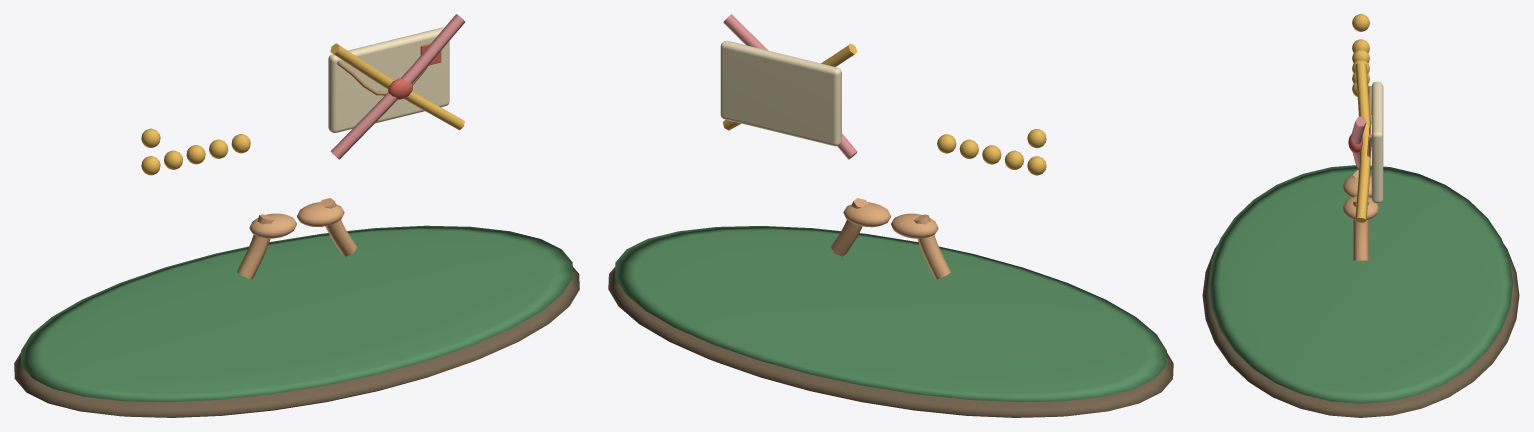
File: complete-second-six-crossed-handover.glb
The picture shows the model from 3 angles, left to right: view 1: azimuth 30°, elevation 25°; view 2: azimuth 150°, elevation 25°; view 3: azimuth 270°, elevation 25°; orthographic projection. The views are drawn at different scales.
Parts seen in each view (by area): view 1: complete-second-six-crossed-handover_surface_01, complete-second-six-crossed-handover_surface_00, complete-second-six-crossed-handover_surface_05, complete-second-six-crossed-handover_surface_02, complete-second-six-crossed-handover_surface_07, complete-second-six-crossed-handover_surface_03, complete-second-six-crossed-handover_surface_04; view 2: complete-second-six-crossed-handover_surface_01, complete-second-six-crossed-handover_surface_00, complete-second-six-crossed-handover_surface_05, complete-second-six-crossed-handover_surface_07, complete-second-six-crossed-handover_surface_02, complete-second-six-crossed-handover_surface_03; view 3: complete-second-six-crossed-handover_surface_01, complete-second-six-crossed-handover_surface_00, complete-second-six-crossed-handover_surface_02, complete-second-six-crossed-handover_surface_05, complete-second-six-crossed-handover_surface_07, complete-second-six-crossed-handover_surface_03.
Boxes of the visible parts, x1=… form: complete-second-six-crossed-handover_surface_01: x1=21, y1=225, x2=572, y2=402; complete-second-six-crossed-handover_surface_00: x1=14, y1=266, x2=579, y2=417; complete-second-six-crossed-handover_surface_05: x1=328, y1=27, x2=449, y2=132; complete-second-six-crossed-handover_surface_02: x1=141, y1=43, x2=464, y2=175; complete-second-six-crossed-handover_surface_07: x1=237, y1=198, x2=356, y2=279; complete-second-six-crossed-handover_surface_03: x1=330, y1=14, x2=464, y2=159; complete-second-six-crossed-handover_surface_04: x1=388, y1=43, x2=441, y2=99; complete-second-six-crossed-handover_surface_01: x1=615, y1=226, x2=1166, y2=402; complete-second-six-crossed-handover_surface_00: x1=608, y1=267, x2=1173, y2=417; complete-second-six-crossed-handover_surface_05: x1=720, y1=41, x2=841, y2=146; complete-second-six-crossed-handover_surface_07: x1=831, y1=198, x2=950, y2=279; complete-second-six-crossed-handover_surface_02: x1=723, y1=43, x2=1046, y2=175; complete-second-six-crossed-handover_surface_03: x1=723, y1=14, x2=857, y2=159; complete-second-six-crossed-handover_surface_01: x1=1209, y1=165, x2=1512, y2=403; complete-second-six-crossed-handover_surface_00: x1=1202, y1=244, x2=1519, y2=417; complete-second-six-crossed-handover_surface_02: x1=1352, y1=14, x2=1370, y2=222; complete-second-six-crossed-handover_surface_05: x1=1371, y1=81, x2=1383, y2=203; complete-second-six-crossed-handover_surface_07: x1=1342, y1=170, x2=1379, y2=261; complete-second-six-crossed-handover_surface_03: x1=1351, y1=116, x2=1366, y2=168.
Bounding box in the file's own units: 4.56 × 2.32 × 2.5.
